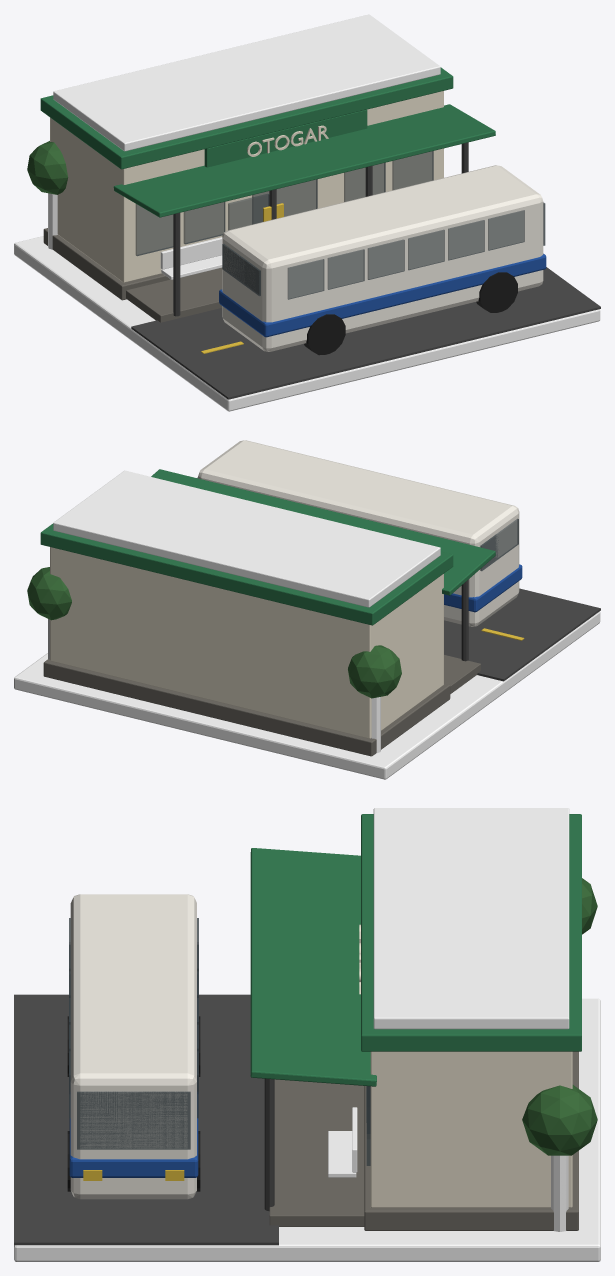
Rendered from otogar.glb.
3 views of the same model, one above another, from view 1: azimuth 30°, elevation 25°; view 2: azimuth 150°, elevation 25°; view 3: azimuth 270°, elevation 25° (orthographic). The views are drawn at different scales.
Visible parts, largest first — view 1: Asfalt; view 2: Asfalt; view 3: Asfalt.
Part boxes in pixels (<box>): Asfalt: <box>14,14,600,411</box>; Asfalt: <box>14,440,600,779</box>; Asfalt: <box>14,808,600,1261</box>.
Size of the model in its own units: 1 by 0.4247 by 1.
